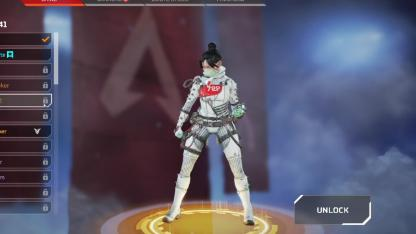Target: (190, 41, 233, 189)
